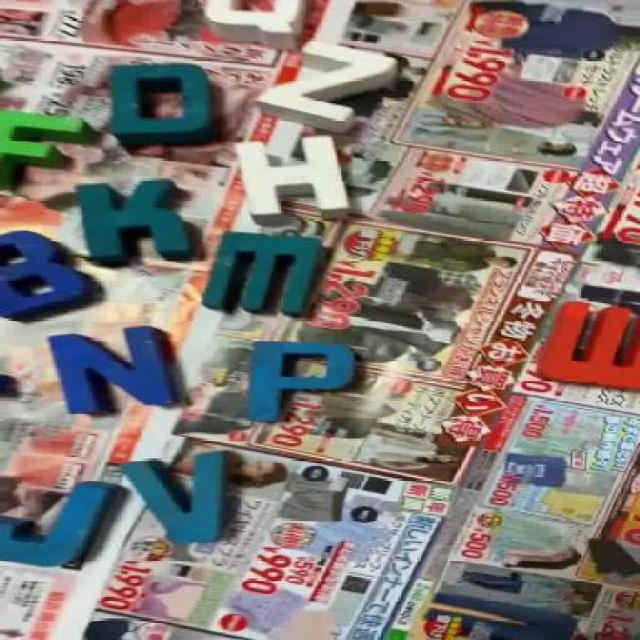D: (110, 61, 215, 139)
H: (233, 136, 359, 227)
J: (0, 483, 128, 568)
K: (68, 179, 209, 261)
M: (208, 235, 326, 312)
N: (49, 327, 185, 416)
P: (245, 339, 362, 421)
V: (128, 452, 243, 542)
W: (541, 294, 639, 392)
Z: (260, 43, 394, 128)
